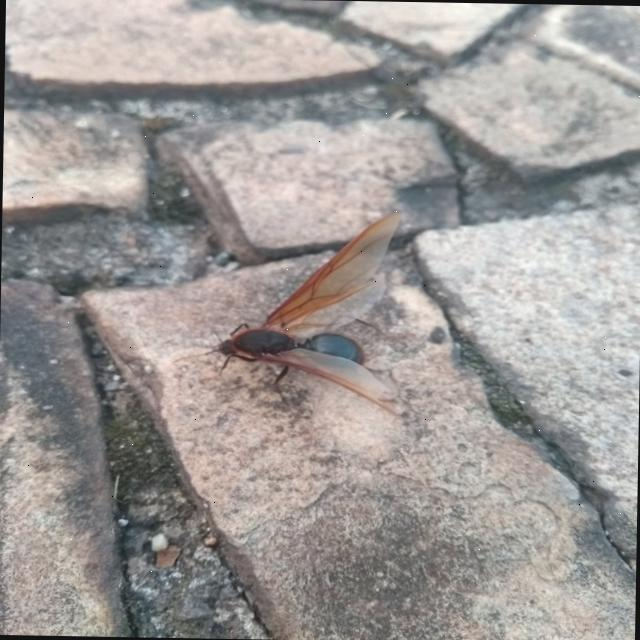Alive-Male-Alate: (170, 208, 410, 416)
